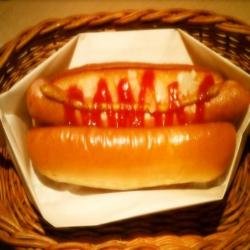hotdog: (10, 49, 242, 194)
